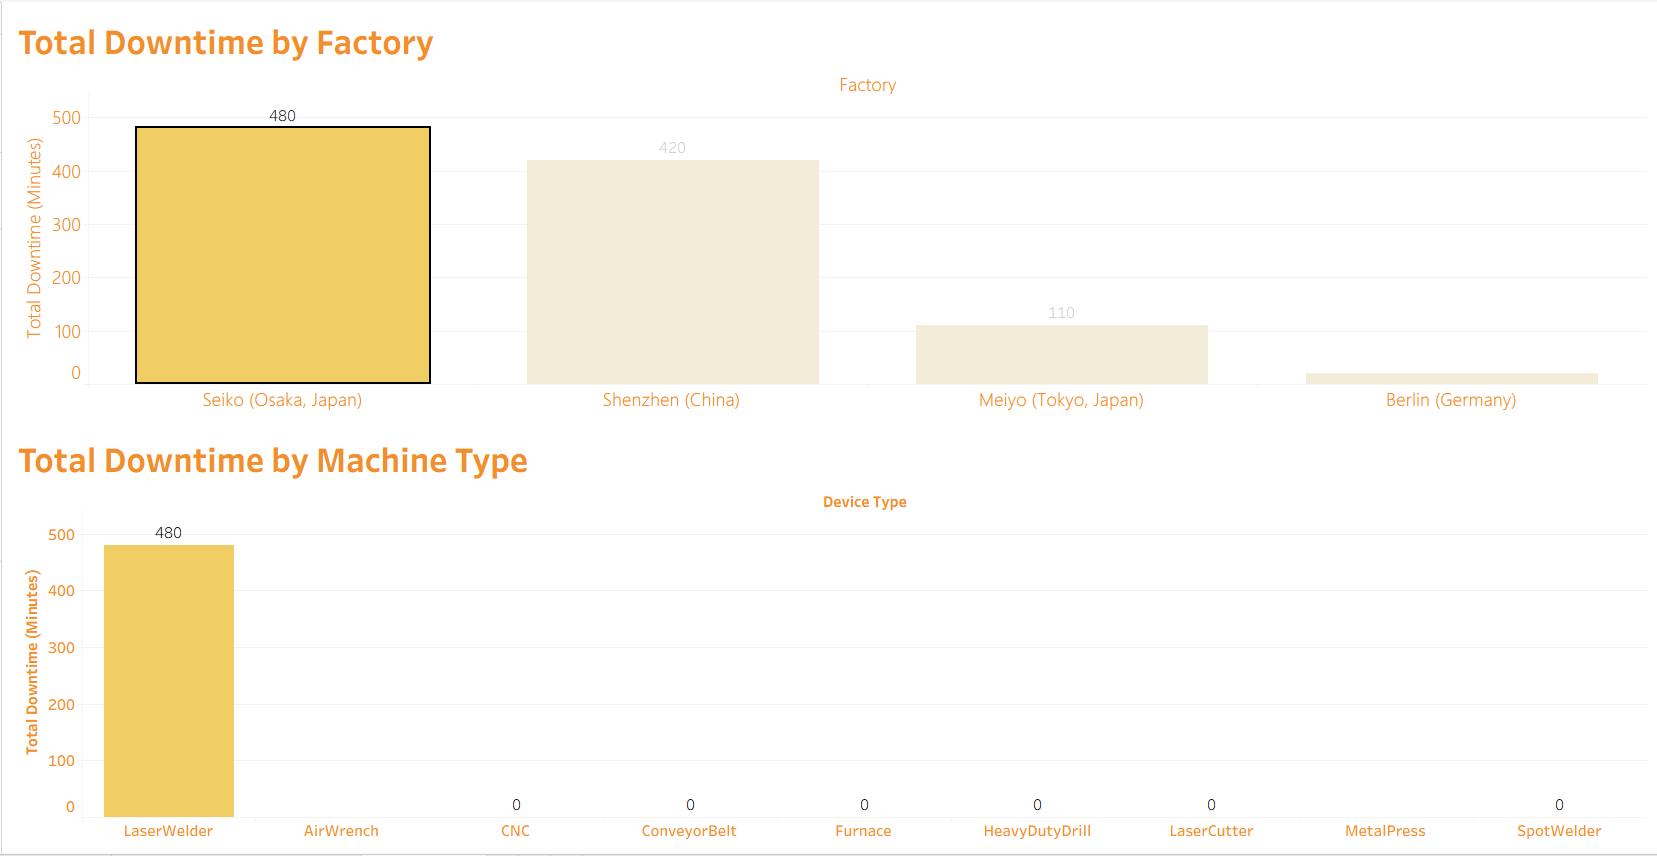

Layout of this report page (visuals, bound fields, positions):
{"tool":"tableau","page":{"name":"Dashboard 1","canvas":[1000,1000],"units":"permille","ordinal":0},"visuals":[{"type":"worksheet","title":"Total Downtime by Factory","mark":"Automatic","rows":["Calculation_1971171602976770"],"cols":["factory"],"box":[4.8,9.4,990.3,490.6]},{"type":"worksheet","title":"Total Downtime by Machine Type","mark":"Automatic","rows":["Calculation_1971171602976770"],"cols":["deviceType"],"box":[4.8,500,990.3,490.6]}]}

Visuals, with their boxes on the dashboard's canvas, which has no fixed pixel size, in thousandths of its width and height (x1, y1, x2, y2). These are canvas units, not pixel positions in the 1657x856 screenshot, which may show the page scaled, cropped or inside an application window:
"Total Downtime by Factory" worksheet: bbox=[5, 9, 995, 500]
"Total Downtime by Machine Type" worksheet: bbox=[5, 500, 995, 991]
